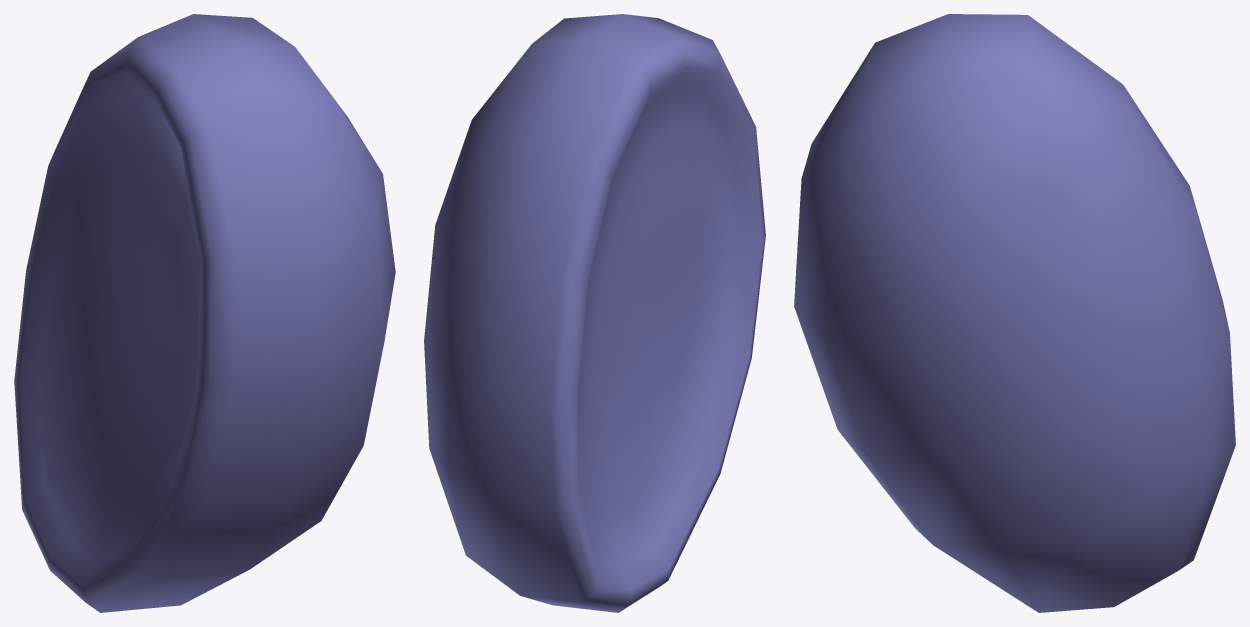
Rendered from Pons_Trans.gltf.
3 views of the same model, side by side, from view 1: azimuth 30°, elevation 25°; view 2: azimuth 150°, elevation 25°; view 3: azimuth 270°, elevation 25° (orthographic). The views are drawn at different scales.
Parts seen in each view (by area): view 1: Pons; view 2: Pons; view 3: Pons.
Part boxes in pixels (x1=…): Pons: x1=14, y1=14, x2=395, y2=612; Pons: x1=424, y1=14, x2=765, y2=612; Pons: x1=794, y1=14, x2=1235, y2=612.
Bounding box in the file's own units: 0.9671 × 2.11 × 1.47.
